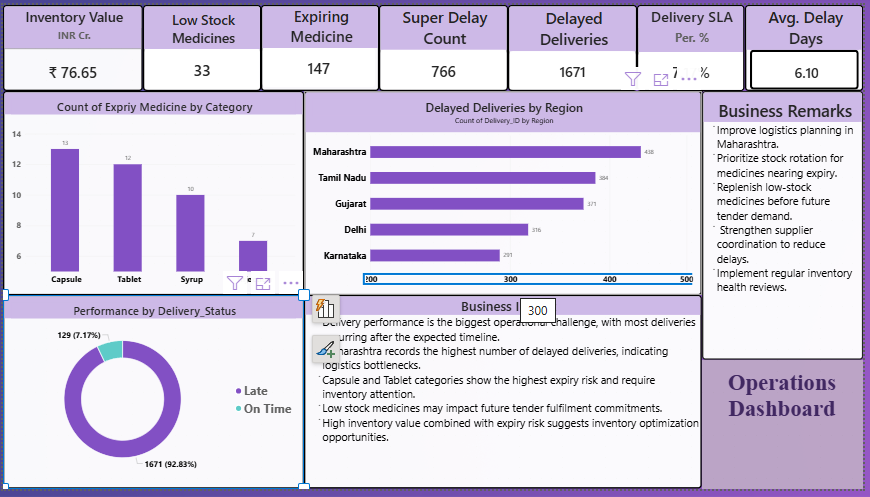

The dashboard page shown, as its layout file describes it:
{"tool":"powerbi","page":{"name":"Operations Dashboard","canvas":[1920,1080],"ordinal":1},"visuals":[{"type":"cardVisual","title":"Inventory Value    ","fields":{"Data":["Medicine_Inventory.Inventory Value Lakh"]},"box":[0,0,312,192],"z":0},{"type":"cardVisual","title":"Low Stock Medicines","fields":{"Data":["Medicine_Inventory.Low Stock Medicines"]},"box":[312,0,264,192],"z":1000},{"type":"cardVisual","title":"Expiring Medicine","fields":{"Data":["Medicine_Inventory.Expiring Medicines"]},"box":[576,0,264,192],"z":2000},{"type":"cardVisual","title":"Super Delay Count","fields":{"Data":["Medicine_Inventory.Supplier Delay Count"]},"box":[840,0,288,192],"z":3000},{"type":"cardVisual","title":"Delayed Deliveries","fields":{"Data":["Delivery_Tracking.Delayed Deliveries"]},"box":[1128,0,288,192],"z":4000},{"type":"cardVisual","title":"Delivery SLA  ","fields":{"Data":["Delivery_Tracking.Delivery SLA %"]},"box":[1416,0,240,192],"z":5000},{"type":"cardVisual","title":"Avg. Delay Days","fields":{"Data":["Delivery_Tracking.Avg Delay Days"]},"box":[1656,0,264,192],"z":6000},{"type":"columnChart","title":"Count of Expriy Medicine  by Category","fields":{"Category":["Medicine_Inventory.Category"],"Y":["CountNonNull(Medicine_Inventory.Medicine_ID)"]},"box":[0,192,672,456],"z":7000},{"type":"donutChart","title":"Performance  by Delivery_Status","fields":{"Category":["Delivery_Tracking.Delivery_Status"],"Y":["CountNonNull(Delivery_Tracking.Delivery_ID)"]},"box":[0,648,672,432],"z":8000},{"type":"clusteredBarChart","title":"Delayed Deliveries by Region","fields":{"Category":["Tender_Master.Region"],"Y":["CountNonNull(Delivery_Tracking.Delivery_ID)"]},"box":[672,192,888,456],"z":9000},{"type":"textbox","title":"Business Insight","box":[672,648,888,432],"z":10000},{"type":"textbox","title":"Business Remarks","box":[1560,192,360,600],"z":11000},{"type":"textbox","title":"Operations Dashboard","box":[1560,792,360,288],"z":12000}]}

Visuals, with their boxes in screenshot pixels (x1, y1, x2, y2), scaled from the page's 1920x1080 canvas onto the 870x497 screenshot:
"Inventory Value    " cardVisual: <box>0,0,141,88</box>
"Low Stock Medicines" cardVisual: <box>141,0,261,88</box>
"Expiring Medicine" cardVisual: <box>261,0,381,88</box>
"Super Delay Count" cardVisual: <box>381,0,511,88</box>
"Delayed Deliveries" cardVisual: <box>511,0,642,88</box>
"Delivery SLA  " cardVisual: <box>642,0,750,88</box>
"Avg. Delay Days" cardVisual: <box>750,0,869,88</box>
"Count of Expriy Medicine  by Category" columnChart: <box>0,88,304,298</box>
"Performance  by Delivery_Status" donutChart: <box>0,298,304,496</box>
"Delayed Deliveries by Region" clusteredBarChart: <box>304,88,707,298</box>
"Business Insight" textbox: <box>304,298,707,496</box>
"Business Remarks" textbox: <box>707,88,869,364</box>
"Operations Dashboard" textbox: <box>707,364,869,496</box>
